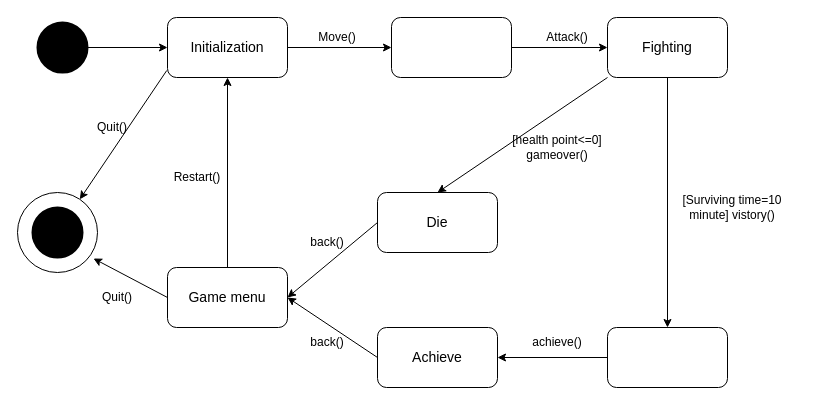
Some shapes in this 815 by 405 pixel diagram are drawn without their labels. Each missing label, with the box of its shape:
Exploring: (390, 16, 512, 78)
Survive: (606, 326, 728, 388)
